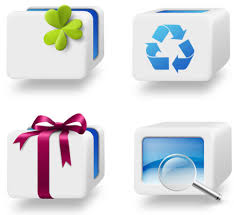searchIcon: (154, 152, 224, 205)
